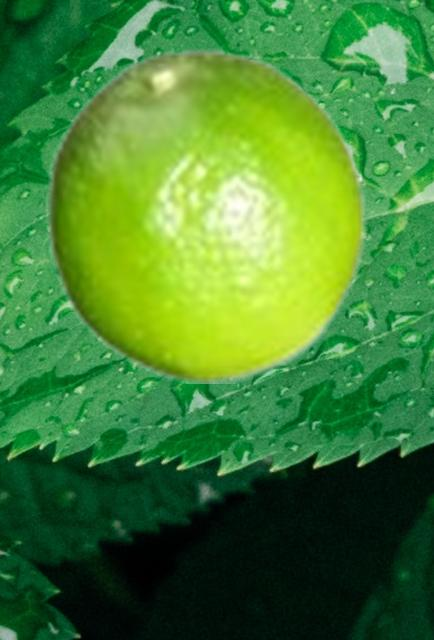calamansi: (45, 46, 368, 382)
